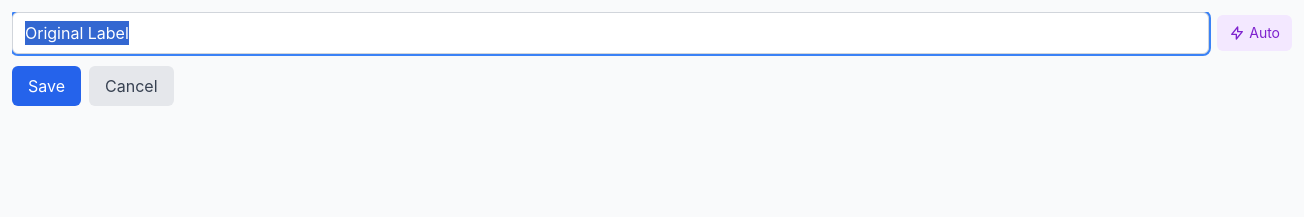
ThemeLabelEditor › Edit Mode › should show error message for duplicate labels
This screenshot has width=1304, height=217.
Replace the text in the field showing "Original Label" with "Duplicate Label" at [611, 33], box [12, 12, 1209, 54]
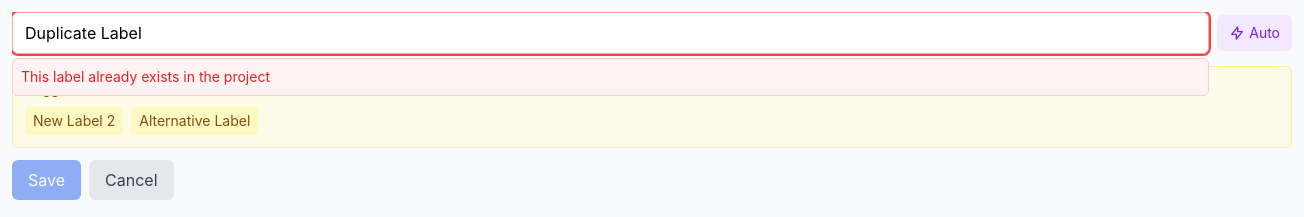
Now the text "This label already exists in the project" is shown, box [12, 58, 1209, 96]
